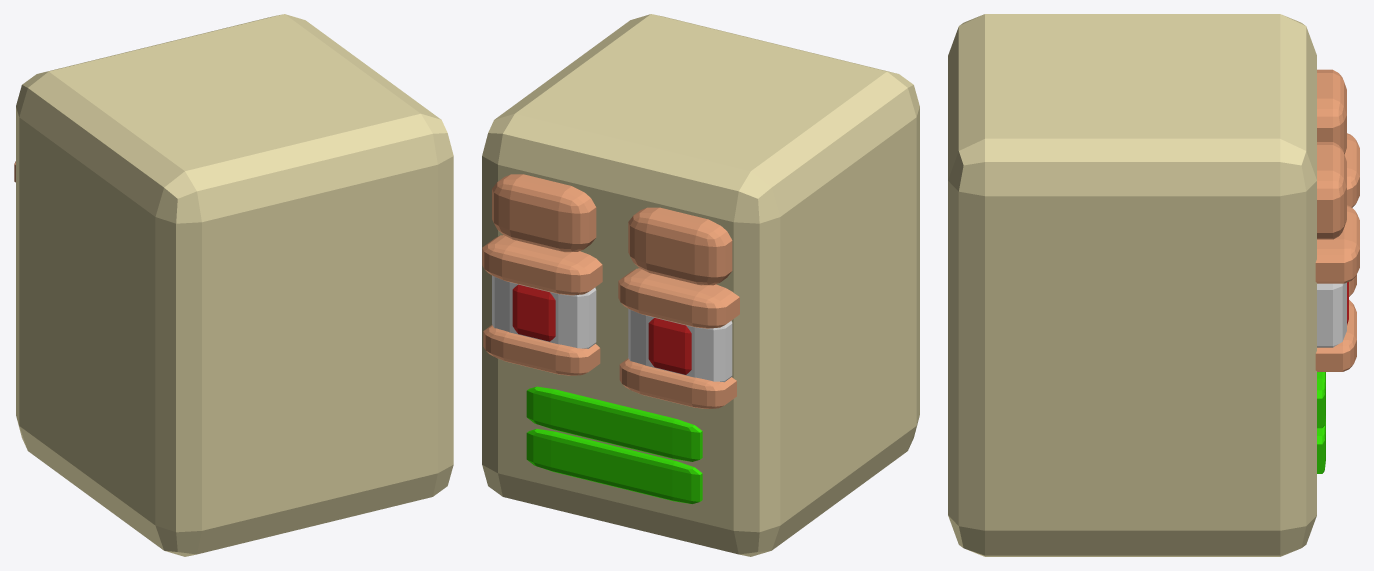
Rendered from robott.glb.
3 views of the same model, side by side, from view 1: azimuth 30°, elevation 25°; view 2: azimuth 150°, elevation 25°; view 3: azimuth 270°, elevation 25° (orthographic). The views are drawn at different scales.
Parts seen in each view (by area): view 1: robot_haed; view 2: robot_haed; view 3: robot_haed.
Boxes of the visible parts, x1,y1,x2,y2 form: robot_haed: [14, 14, 453, 556]; robot_haed: [482, 14, 919, 556]; robot_haed: [948, 14, 1359, 556].
Bounding box in the file's own units: 2 × 2.5 × 2.23.
